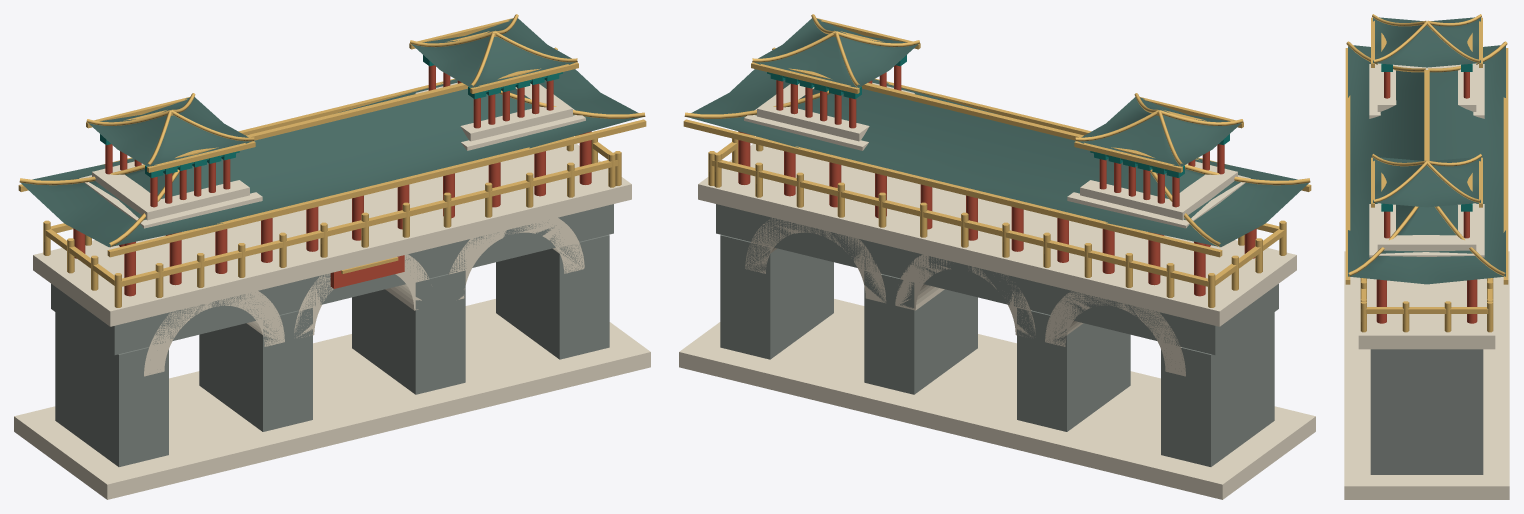
Rendered from gate.glb.
The picture shows the model from 3 angles, left to right: view 1: azimuth 30°, elevation 25°; view 2: azimuth 150°, elevation 25°; view 3: azimuth 270°, elevation 25°; orthographic projection. The views are drawn at different scales.
Size of the model in its own units: 3.7 by 2.14 by 1.1.
